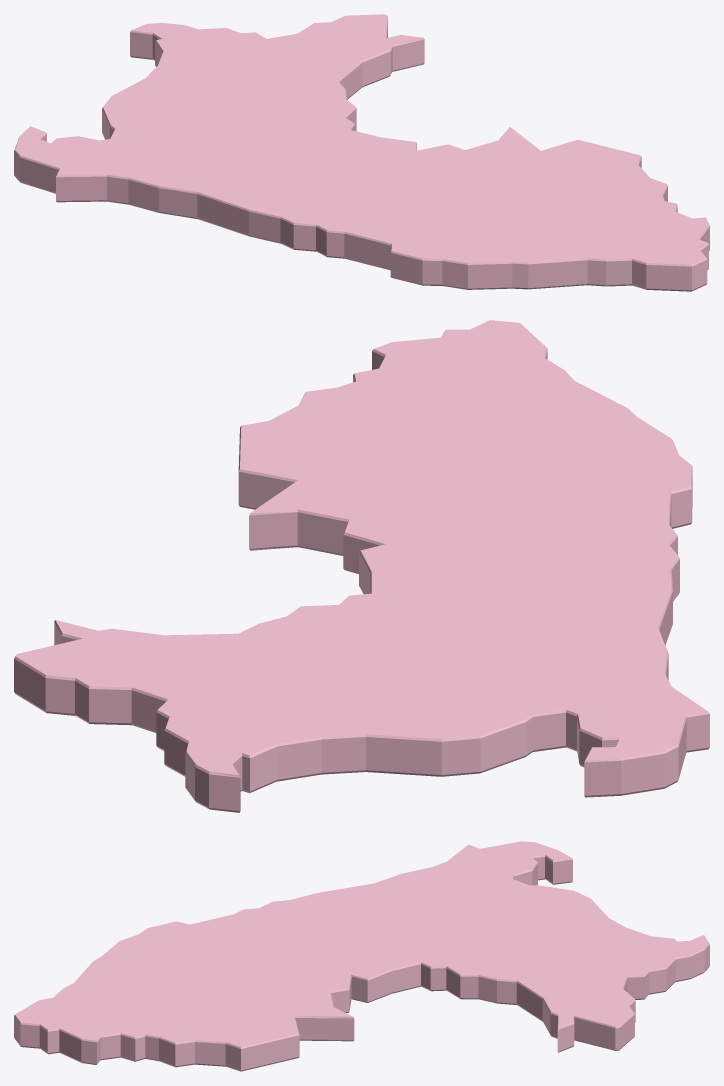
File: PER.glb
The picture shows the model from 3 angles, top to bottom: view 1: azimuth 30°, elevation 25°; view 2: azimuth 150°, elevation 25°; view 3: azimuth 270°, elevation 25°; orthographic projection. The views are drawn at different scales.
Size of the model in its own units: 1.23 by 0.068 by 1.76.
